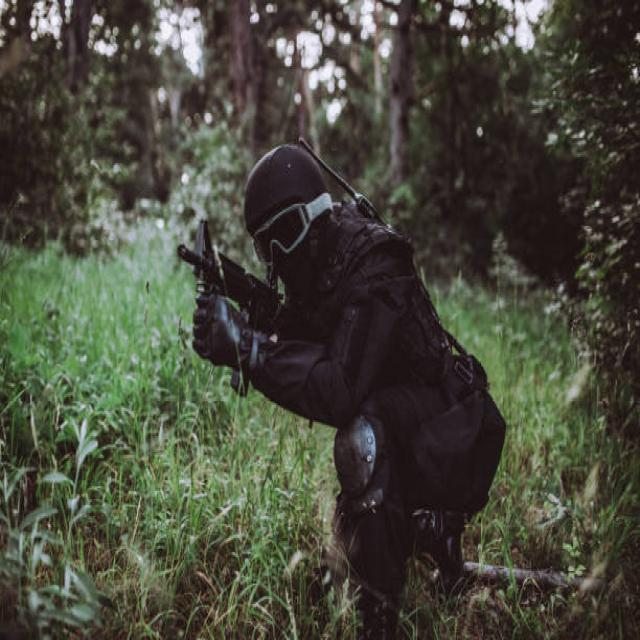soldier: (179, 145, 508, 640)
